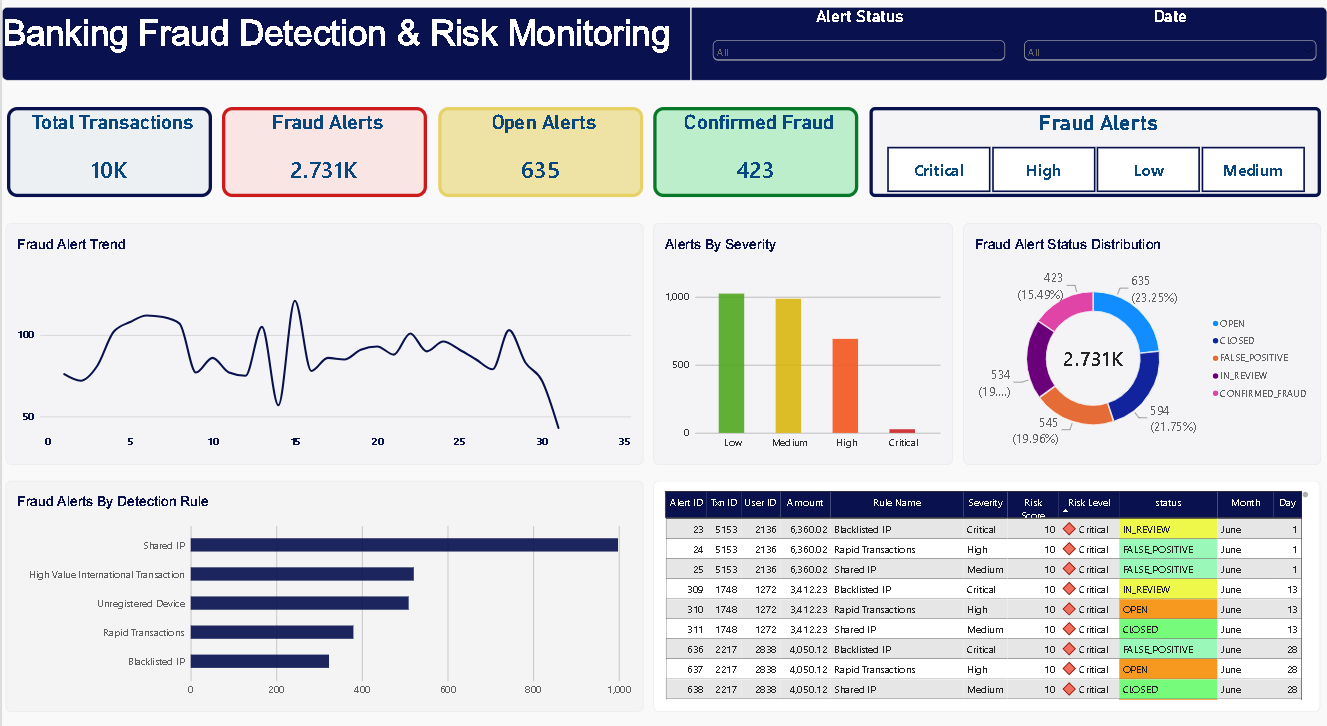

This screenshot's page, from the dashboard's own definition file:
{"tool":"powerbi","page":{"name":"Fraud Detection Dashboard","canvas":[1920,1080],"ordinal":0},"visuals":[{"type":"textbox","title":"  Banking Fraud Detection & Risk Monitoring","box":[0,22.4,1920.4,106.5],"z":0},{"type":"cardVisual","title":"Total Transactions","fields":{"Data":["Measure Table.Total Transactions"]},"box":[6.4,166.6,296.8,130.3],"z":1000},{"type":"cardVisual","title":"Fraud Alerts","fields":{"Data":["CountNonNull(fraud_detection fraud_alerts.txn_id)"]},"box":[318.8,166.6,296.8,130.3],"z":2000},{"type":"slicer","title":"Fraud Alerts","fields":{"Values":["fraud_detection transaction_risk.risk_level"]},"box":[1255.7,166.6,653.8,130.8],"z":3000},{"type":"cardVisual","title":"Open Alerts","fields":{"Data":["Measure Table.Open alerts"]},"box":[631.2,166.6,296.8,130.3],"z":4000},{"type":"cardVisual","title":"Confirmed Fraud","fields":{"Data":["Measure Table.Confirmed Fraud"]},"box":[943.7,166.6,296.8,130.3],"z":5000},{"type":"lineChart","title":"Fraud Alert Trend","fields":{"Category":["fraud_detection fraud_alerts.alert_time.Variation.Date Hierarchy.Day"],"Y":["CountNonNull(fraud_detection fraud_alerts.txn_id)"]},"box":[5.6,334.4,922.8,349.3],"z":6000},{"type":"shape","box":[960.2,22.4,72.9,106.5],"z":7000},{"type":"slicer","title":"Alert  Status","fields":{"Values":["fraud_detection fraud_alerts.status"]},"box":[1023.7,22.4,433.4,108.3],"z":8000},{"type":"slicer","title":"Date","fields":{"Values":["fraud_detection transactions.Transaction Date"]},"box":[1475.8,22.4,433.4,108.3],"z":9000},{"type":"clusteredColumnChart","title":"Alerts By Severity","fields":{"Category":["fraud_detection transaction_risk.risk_level"],"Y":["CountNonNull(fraud_detection fraud_alerts.txn_id)"]},"box":[943.4,334.4,433.4,349.3],"z":10000},{"type":"donutChart","title":"Fraud Alert Status Distribution","fields":{"Category":["fraud_detection fraud_alerts.status"],"Y":["CountNonNull(fraud_detection fraud_alerts.txn_id)"]},"box":[1391.7,334.4,517.5,349.3],"z":11000},{"type":"clusteredBarChart","title":"Fraud Alerts By Detection Rule","fields":{"Category":["fraud_detection fraud_rules.rule_name"],"Y":["CountNonNull(fraud_detection fraud_alerts.txn_id)"]},"box":[5.6,708,922.8,334.4],"z":12000},{"type":"tableEx","fields":{"Values":["fraud_detection fraud_alerts.alert_id","fraud_detection transaction_risk.txn_id","fraud_detection transaction_risk.user_id","fraud_detection transactions.amount","fraud_detection fraud_rules.rule_name","fraud_detection fraud_rules.severity","fraud_detection transaction_risk.risk_score","fraud_detection transaction_risk.risk_level","fraud_detection fraud_alerts.status","fraud_detection transactions.Transaction Date.Variation.Date Hierarchy.Month","fraud_detection transactions.Transaction Date.Variation.Date Hierarchy.Day"]},"box":[943.4,708,965.8,334.4],"z":13000}]}

Visuals, with their boxes in screenshot pixels (x1, y1, x2, y2), scaled from the page's 1920x1080 canvas onto the 1327x726 screenshot:
"  Banking Fraud Detection & Risk Monitoring" textbox: box(0, 15, 1326, 87)
"Total Transactions" cardVisual: box(4, 112, 210, 200)
"Fraud Alerts" cardVisual: box(220, 112, 425, 200)
"Fraud Alerts" slicer: box(868, 112, 1320, 200)
"Open Alerts" cardVisual: box(436, 112, 641, 200)
"Confirmed Fraud" cardVisual: box(652, 112, 857, 200)
"Fraud Alert Trend" lineChart: box(4, 225, 642, 460)
shape: box(664, 15, 714, 87)
"Alert  Status" slicer: box(708, 15, 1007, 88)
"Date" slicer: box(1020, 15, 1320, 88)
"Alerts By Severity" clusteredColumnChart: box(652, 225, 952, 460)
"Fraud Alert Status Distribution" donutChart: box(962, 225, 1320, 460)
"Fraud Alerts By Detection Rule" clusteredBarChart: box(4, 476, 642, 701)
tableEx - fraud_detection fraud_alerts.alert_id x fraud_detection transaction_risk.txn_id: box(652, 476, 1320, 701)
